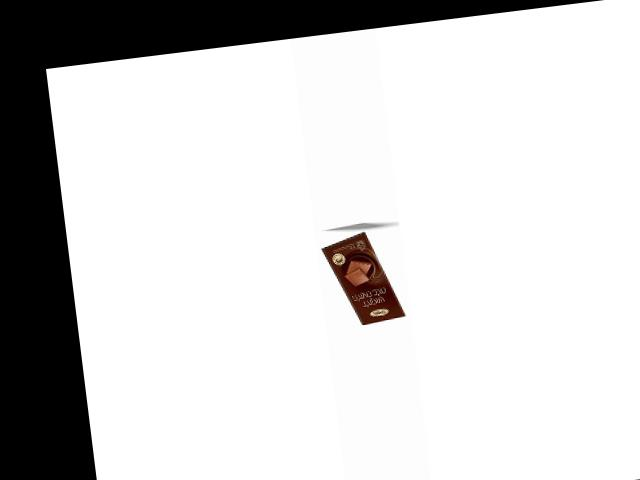chocolate: (316, 223, 407, 330)
